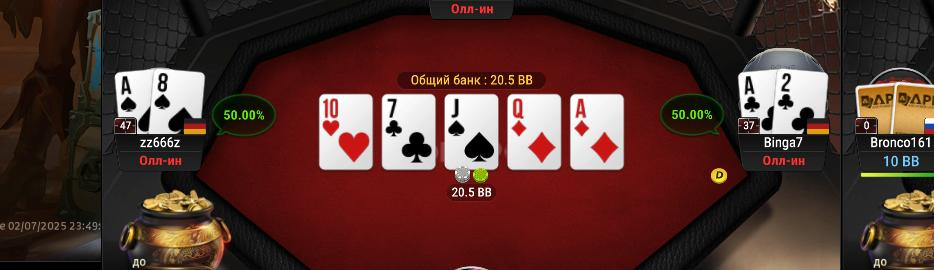10h: (319, 95, 373, 171)
2c: (775, 69, 828, 135)
7c: (383, 95, 435, 170)
8s: (153, 68, 202, 133)
Ac: (738, 71, 777, 135)
Ad: (571, 94, 623, 170)
As: (114, 71, 154, 133)
Js: (445, 95, 497, 169)
Qd: (507, 95, 561, 170)
